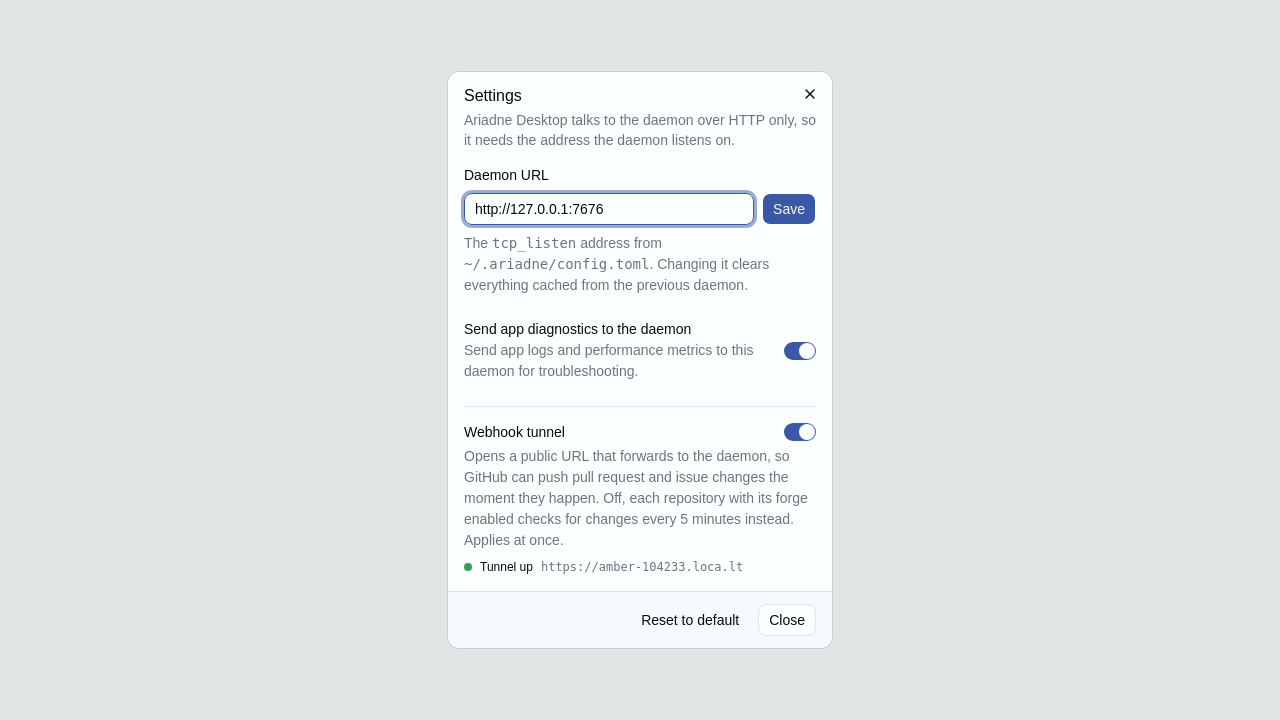
Test case: SettingsDialog › says what the tunnel is for, shows its state, and its switch turns it off and on
expect the text "forwards to the daemon" is shown: met, box [464,448,808,548]
expect the text "Tunnel up" is shown: met, box [480,559,533,575]
Click the switch named "Webhook tunnel" at (800, 432), box [784,423,816,441]
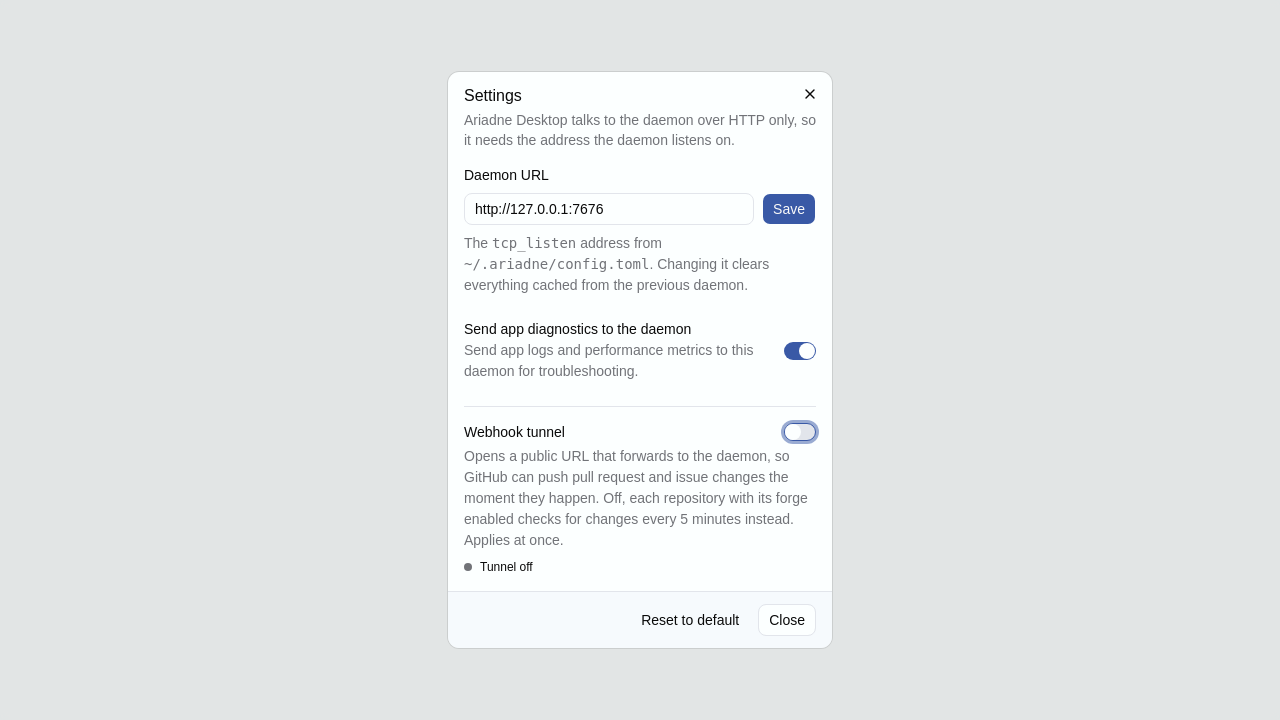
expect the text "Tunnel off" is shown: met, box [480,559,533,575]
Click the switch named "Webhook tunnel" at (800, 432), box [784,423,816,441]
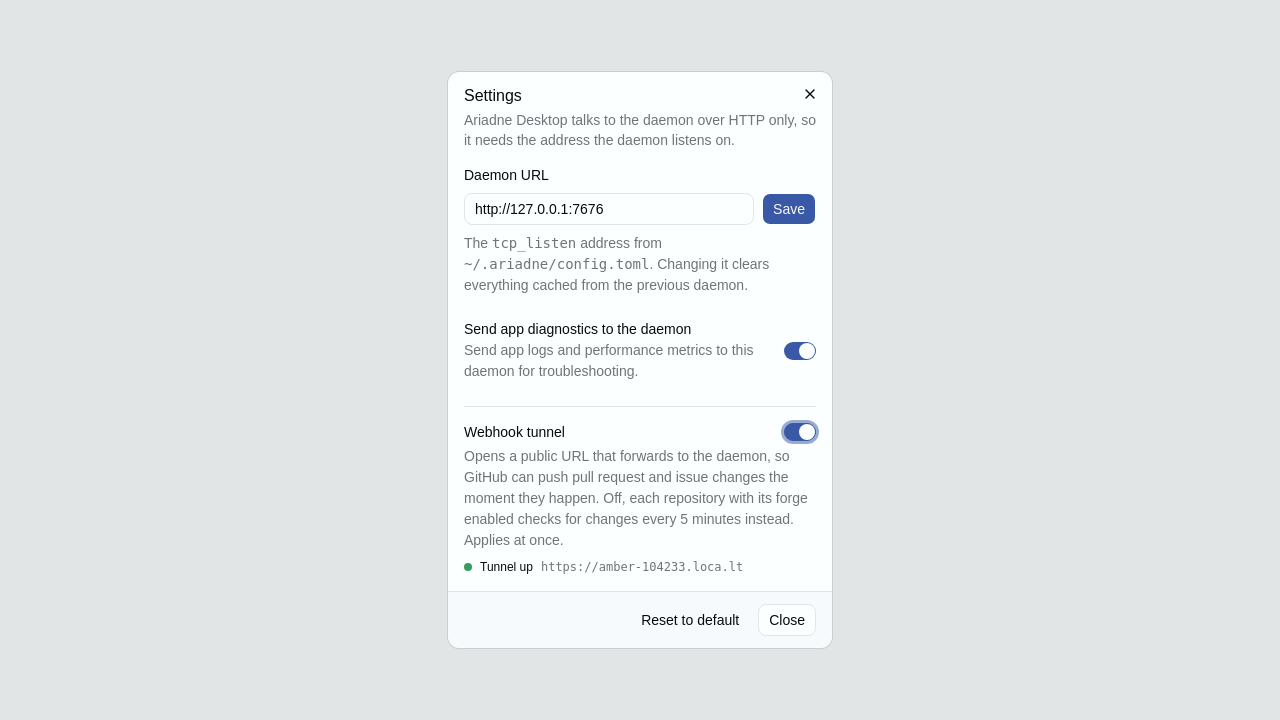
expect the text "Tunnel up" is shown: met, box [480,559,533,575]
